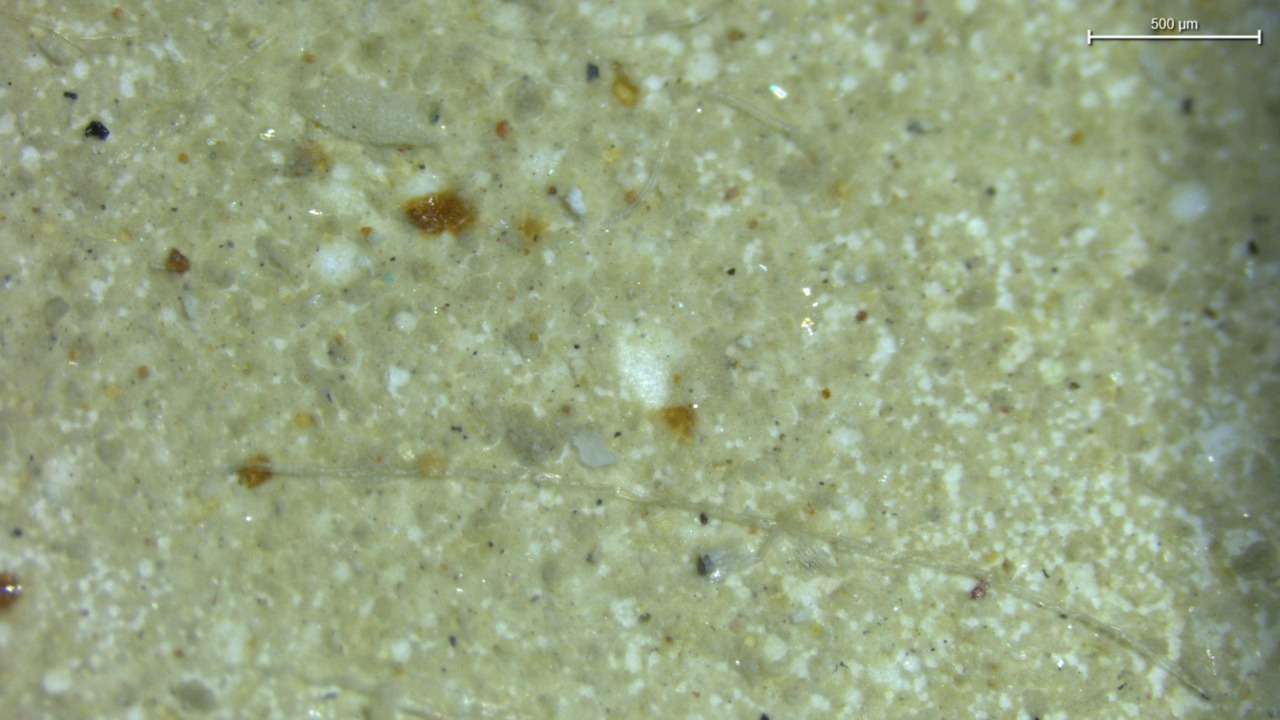microplastic_fragment: (697, 548, 757, 580), (573, 432, 616, 467), (565, 186, 586, 218)
